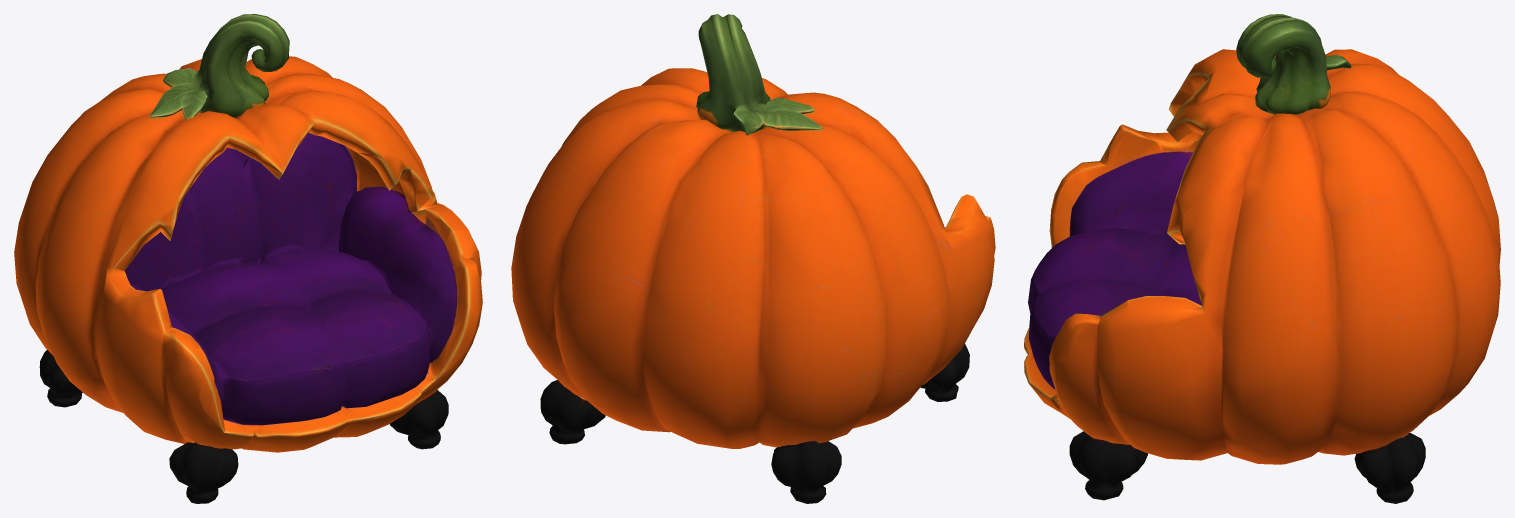
The model's file is halloween_pumpkin_armchair.glb.
3 renders of one model, left to right at view 1: azimuth 30°, elevation 25°; view 2: azimuth 150°, elevation 25°; view 3: azimuth 270°, elevation 25°, orthographic. The views are drawn at different scales.
Visible parts, largest first — view 1: furniture-fit; view 2: furniture-fit; view 3: furniture-fit.
Part boxes in pixels (x1=…): furniture-fit: x1=14, y1=14, x2=482, y2=503; furniture-fit: x1=511, y1=14, x2=995, y2=503; furniture-fit: x1=1024, y1=14, x2=1500, y2=503.
Size of the model in its own units: 2.1 by 2.05 by 2.07.
1 material, 1 textured.
